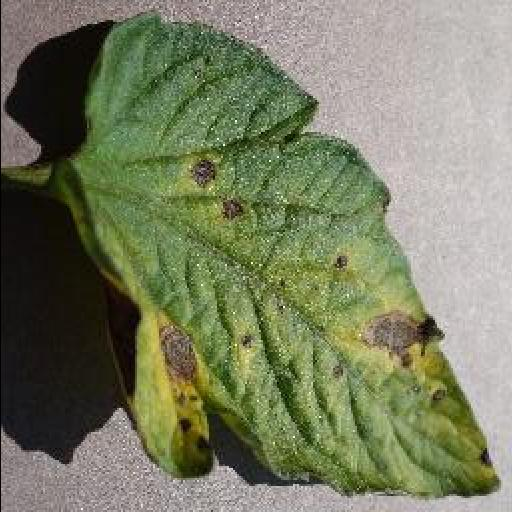disease_tomato: (52, 12, 502, 498)
